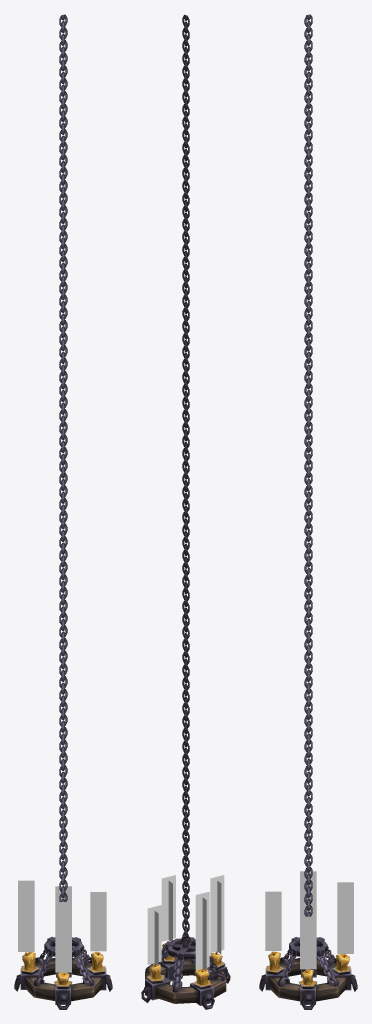
File: crypt_chandelier01.fbx
3 views of the same model, side by side, from view 1: azimuth 90°, elevation 25°; view 2: azimuth 210°, elevation 25°; view 3: azimuth 270°, elevation 25° (orthographic).
Visible parts, largest first — view 1: crypt_chandelier01-0; view 2: crypt_chandelier01-0; view 3: crypt_chandelier01-0.
Part boxes in pixels (x1,y1,x2,y2): crypt_chandelier01-0: (14,14,112,1009); crypt_chandelier01-0: (141,14,230,1009); crypt_chandelier01-0: (259,14,357,1009).
Size of the model in its own units: 1.76 by 19.21 by 1.76.
